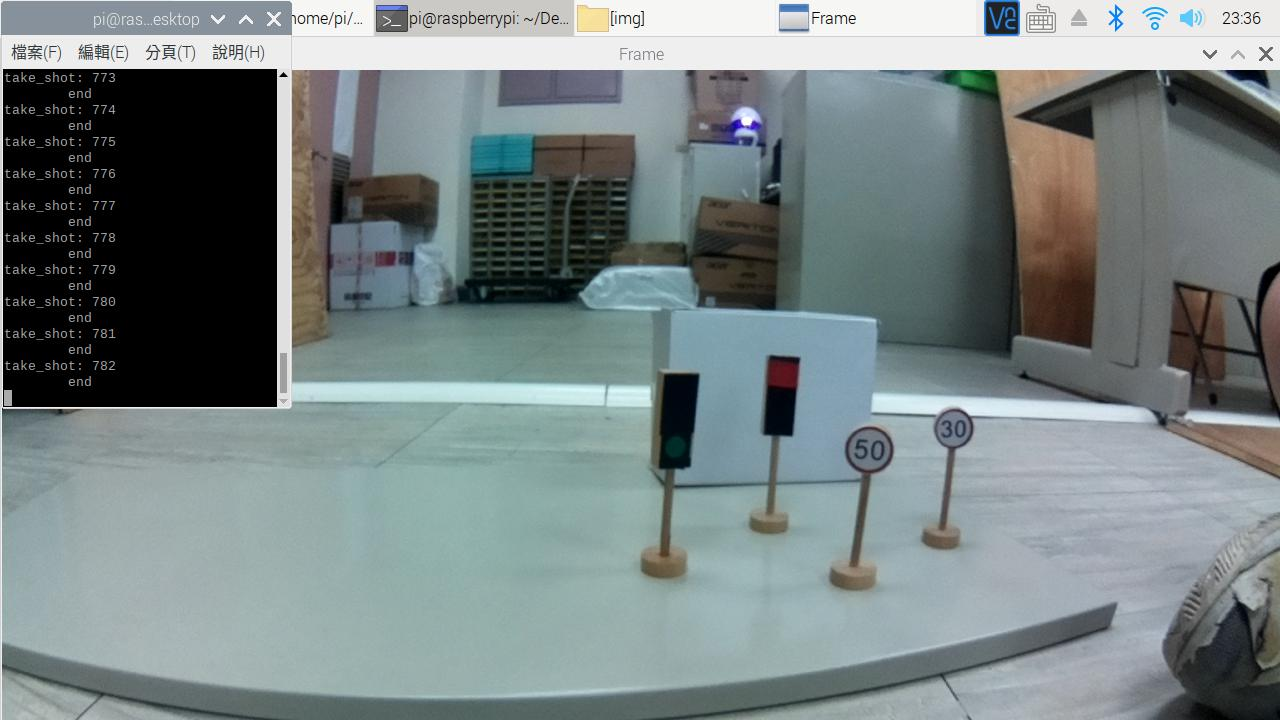Green: (643, 360, 708, 490)
Red: (746, 333, 813, 443)
Speed30: (929, 399, 983, 459)
Speed50: (834, 414, 908, 485)
